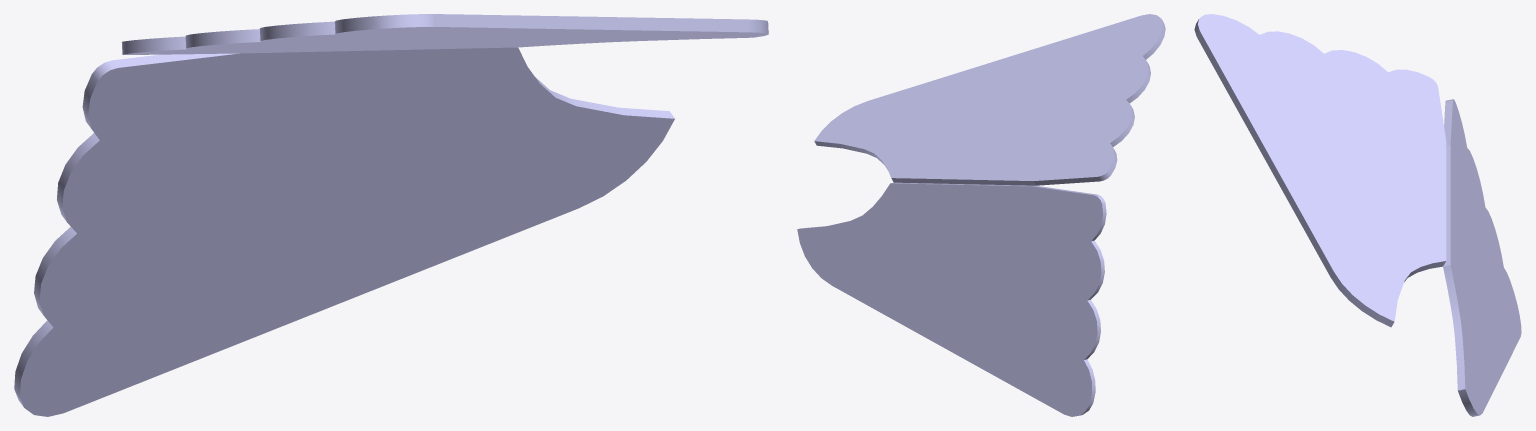
Rendered from tail.DAE.
The picture shows the model from 3 angles, left to right: view 1: azimuth 30°, elevation 25°; view 2: azimuth 150°, elevation 25°; view 3: azimuth 270°, elevation 25°; orthographic projection. The views are drawn at different scales.
Parts seen in each view (by area): view 1: Body.2; view 2: Body.2; view 3: Body.2.
Boxes of the visible parts, x1=… form: Body.2: x1=14, y1=14, x2=768, y2=416; Body.2: x1=797, y1=14, x2=1165, y2=416; Body.2: x1=1194, y1=14, x2=1521, y2=416.
Bounding box in the file's own units: 0.3426 × 0.2493 × 0.2904.
